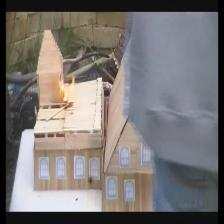smoke: (134, 11, 218, 177)
